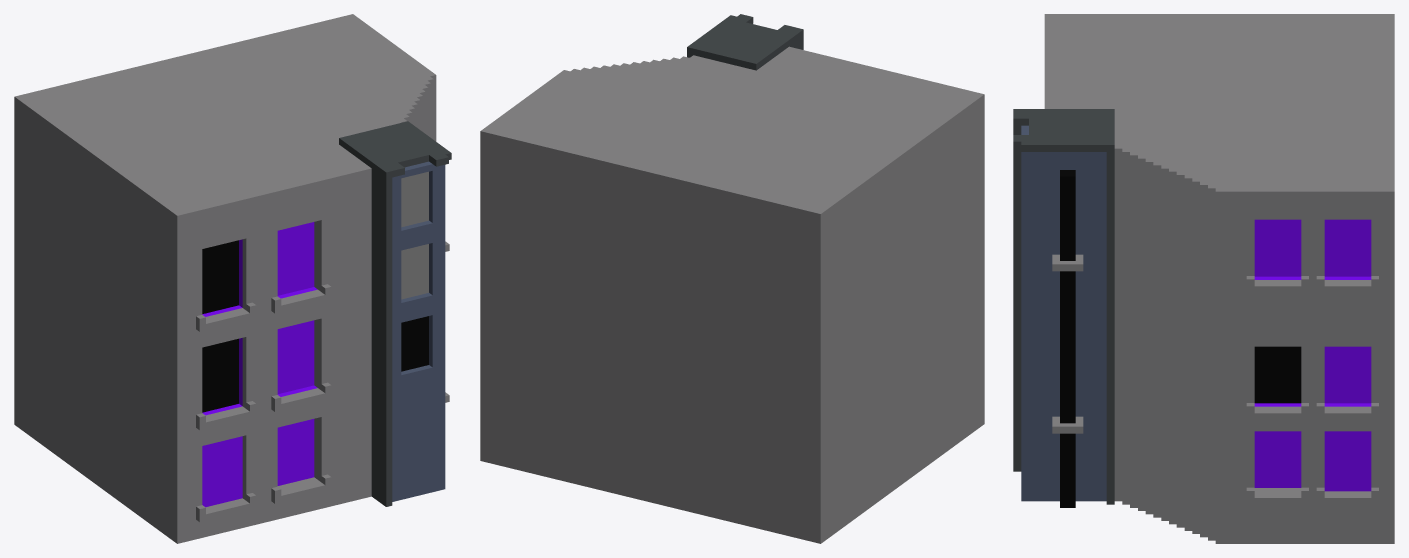
The model's file is Building009(4).obj.
3 renders of one model, left to right at view 1: azimuth 30°, elevation 25°; view 2: azimuth 150°, elevation 25°; view 3: azimuth 270°, elevation 25°, orthographic. The views are drawn at different scales.
Bounding box in the file's own units: 5.5 × 5.1 × 4.9.
1 material, 1 textured.
